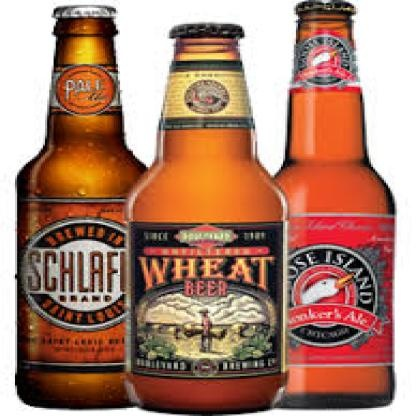trash: (128, 23, 282, 411), (17, 6, 144, 407), (276, 0, 393, 406)
